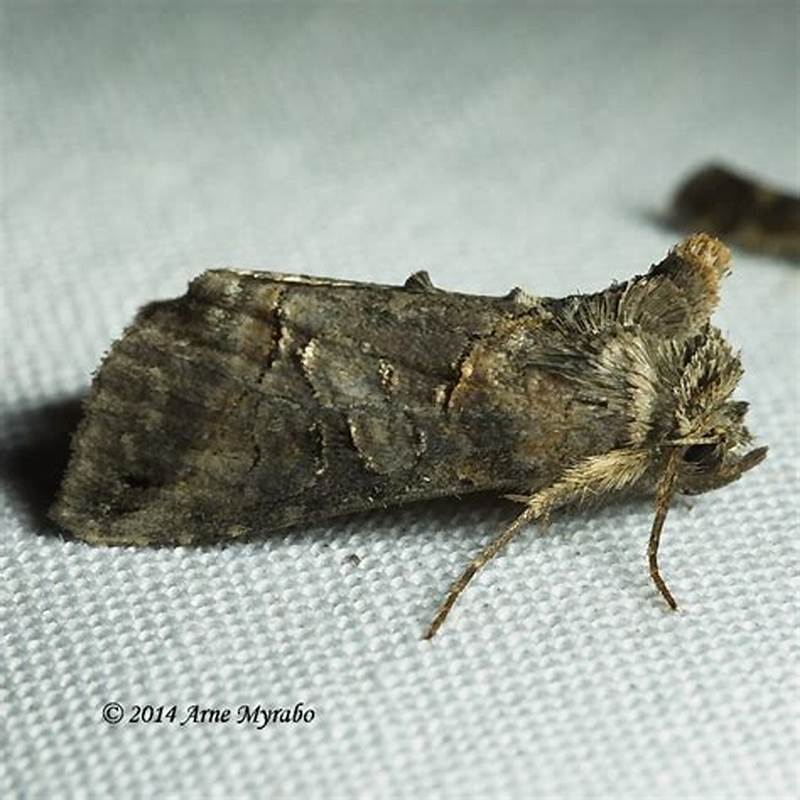Noctuidae: (43, 234, 774, 637)
